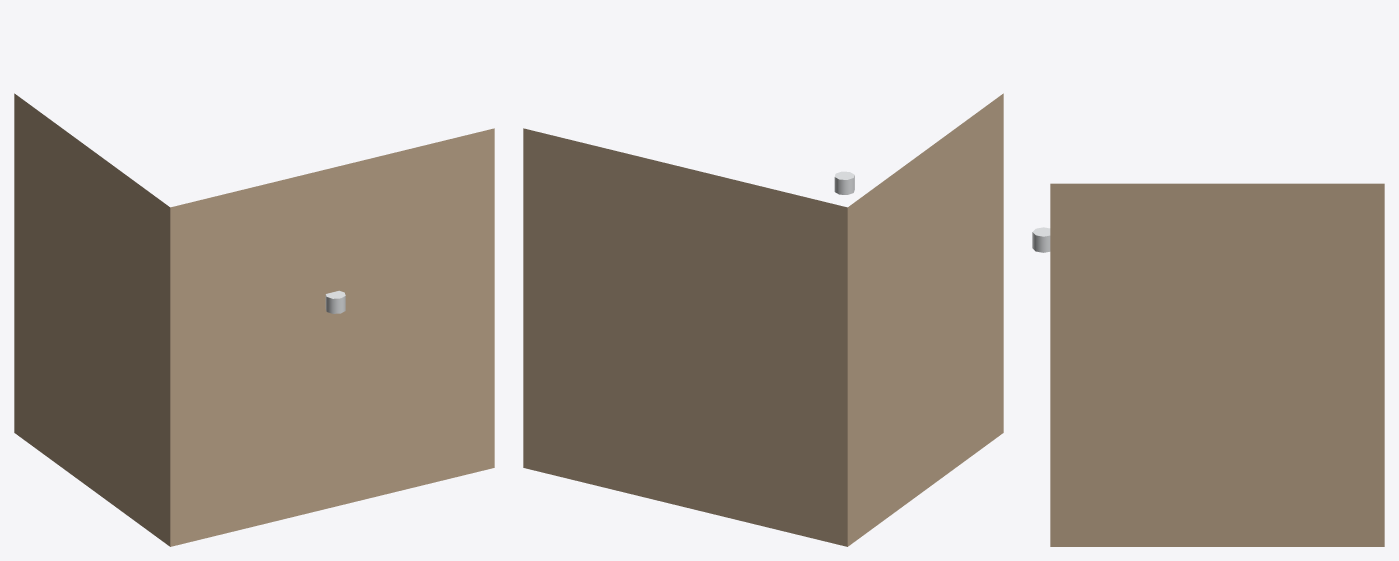
Rendered from nightstand.glb.
3 views of the same model, side by side, from view 1: azimuth 30°, elevation 25°; view 2: azimuth 150°, elevation 25°; view 3: azimuth 270°, elevation 25° (orthographic). The views are drawn at different scales.
Parts seen in each view (by area): view 1: RootNode; view 2: RootNode; view 3: RootNode.
Part boxes in pixels (bbox=[...]): RootNode: bbox=[14, 93, 494, 546]; RootNode: bbox=[523, 93, 1003, 546]; RootNode: bbox=[1032, 183, 1384, 546].
Size of the model in its own units: 1.8 by 1.8 by 1.58.
